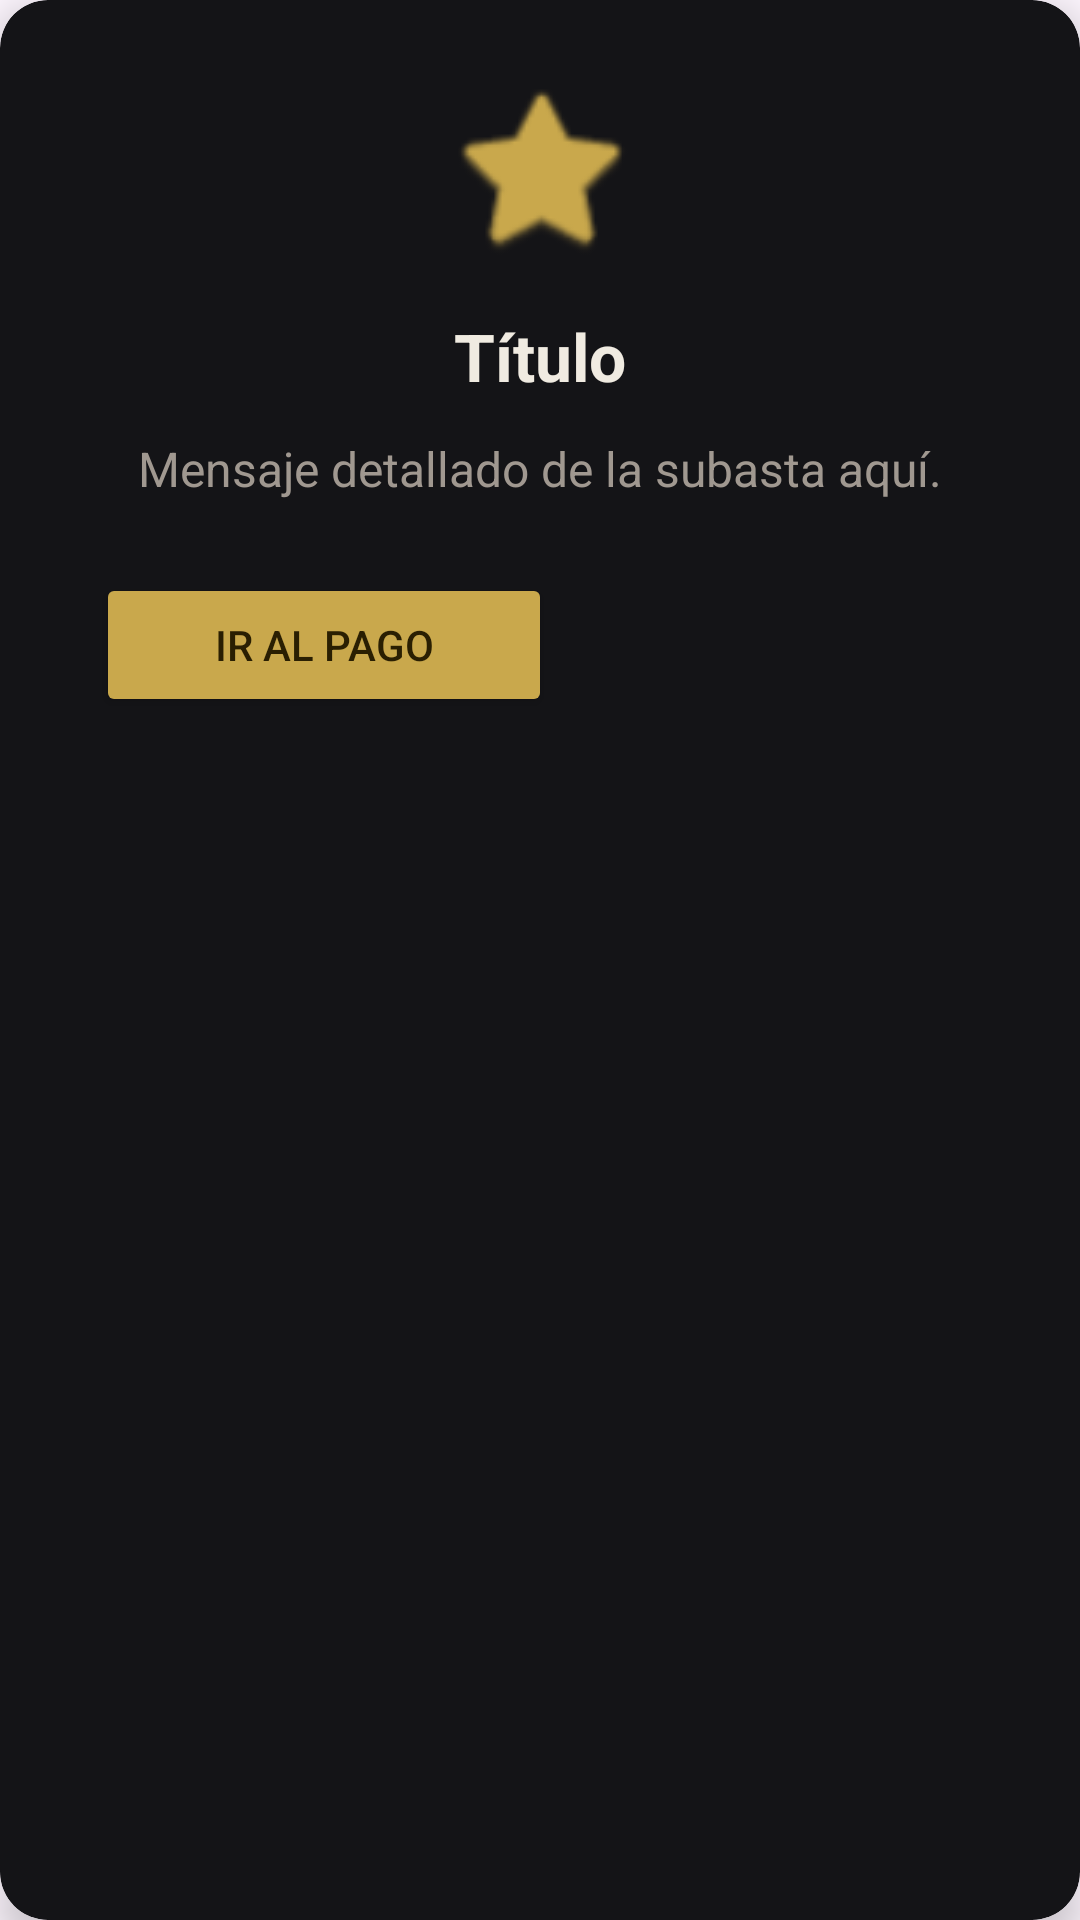

Icons on this 1080x1920 Android screen, each with the point to tap as [x,y]:
star on: [542,169]
